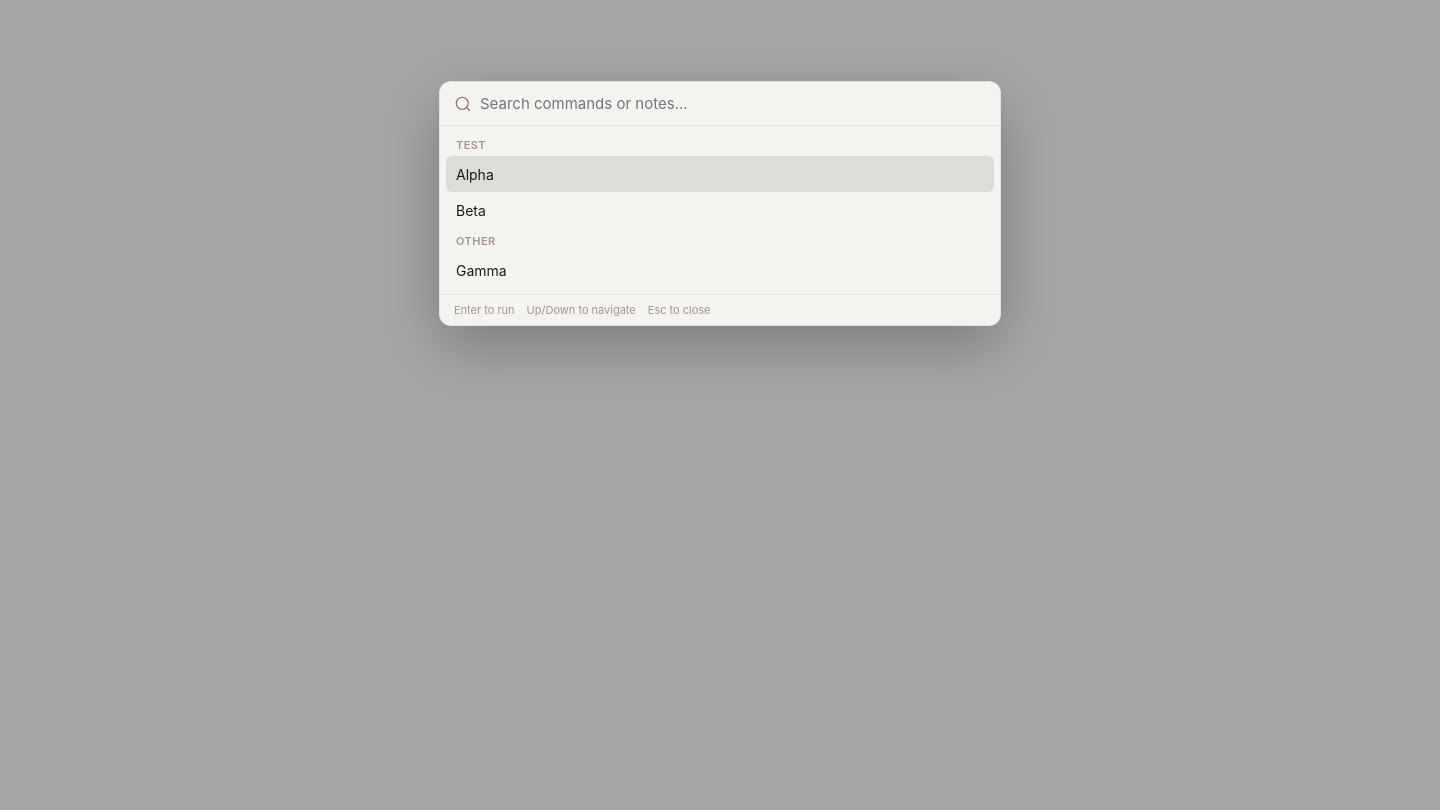
Test: CommandPalette › filters commands by query
Type "alp" into the field with placeholder "Search commands or notes..." at (733, 104), box top-left (480, 94), bottom-right (986, 113)
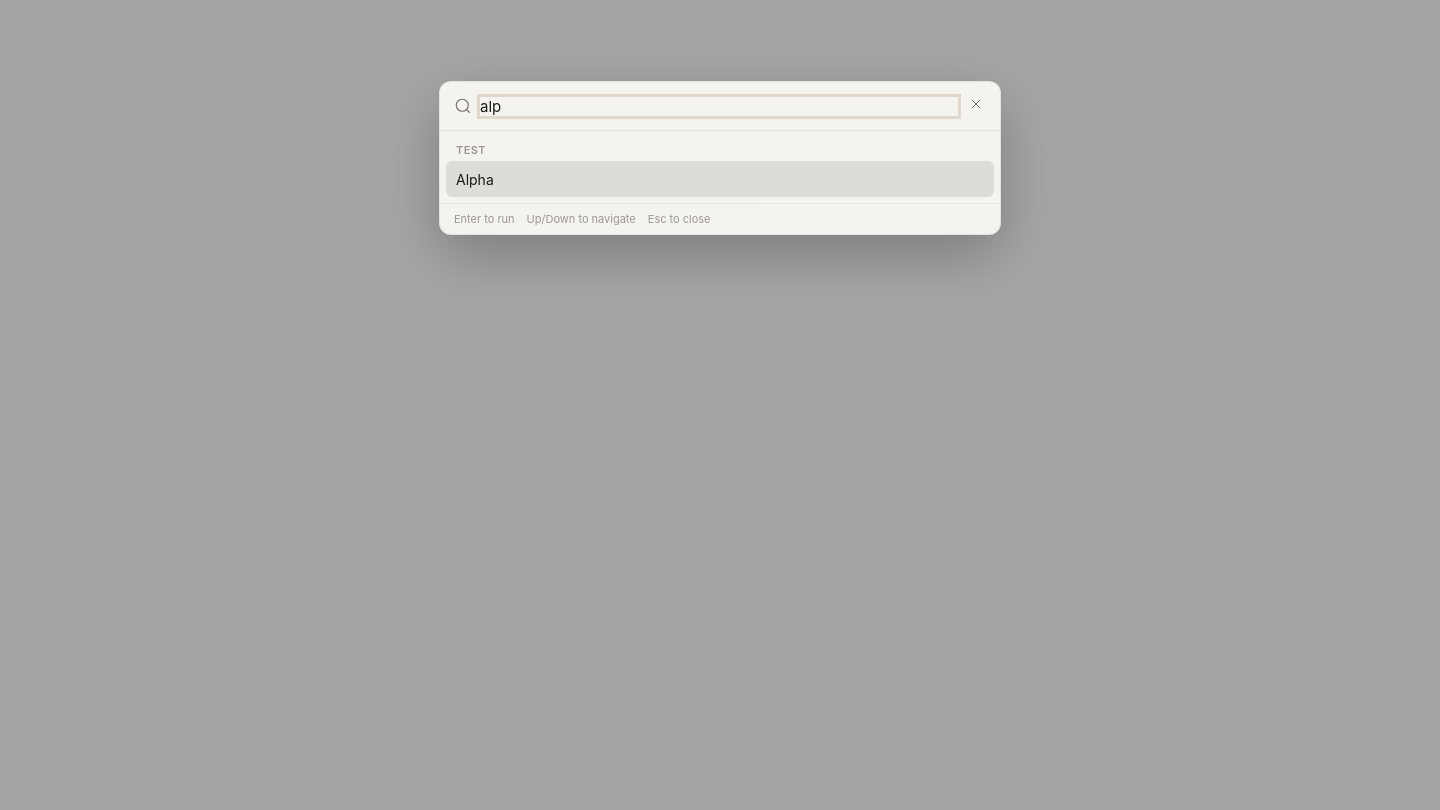
Expected: the text "Alpha" is shown, top-left (456, 170), bottom-right (494, 188)
Expected: the button "Beta" is gone
